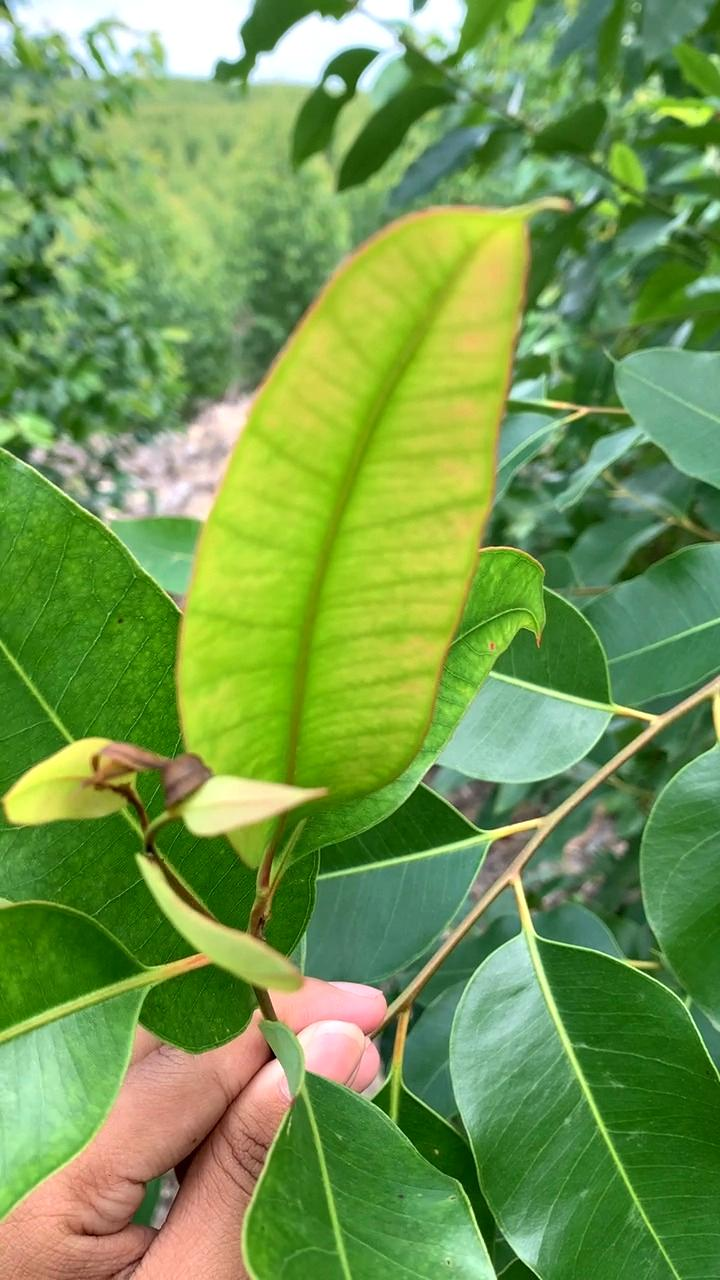Helopeltis-Withered Sprout: (90, 732, 214, 824)
